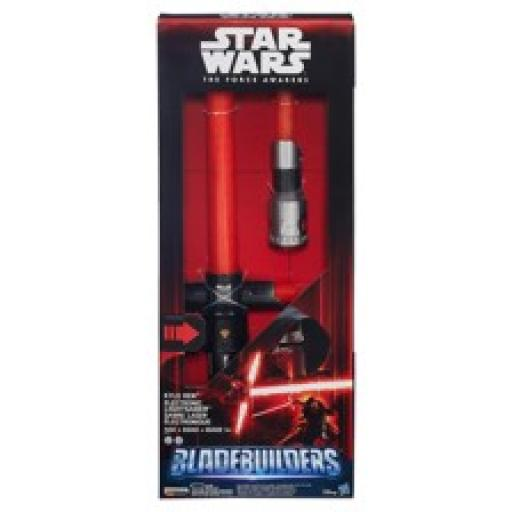lightsaber: (179, 92, 281, 412)
